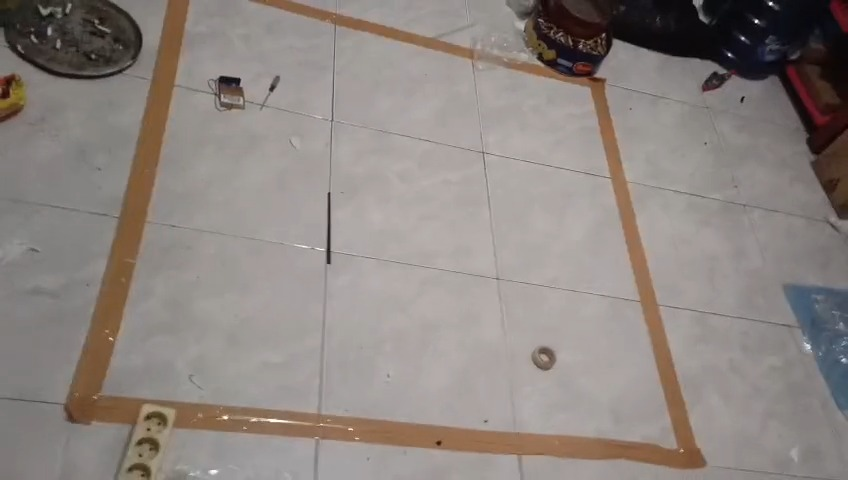floor marking: (164, 57, 705, 468), (66, 0, 187, 423), (270, 0, 474, 58)
